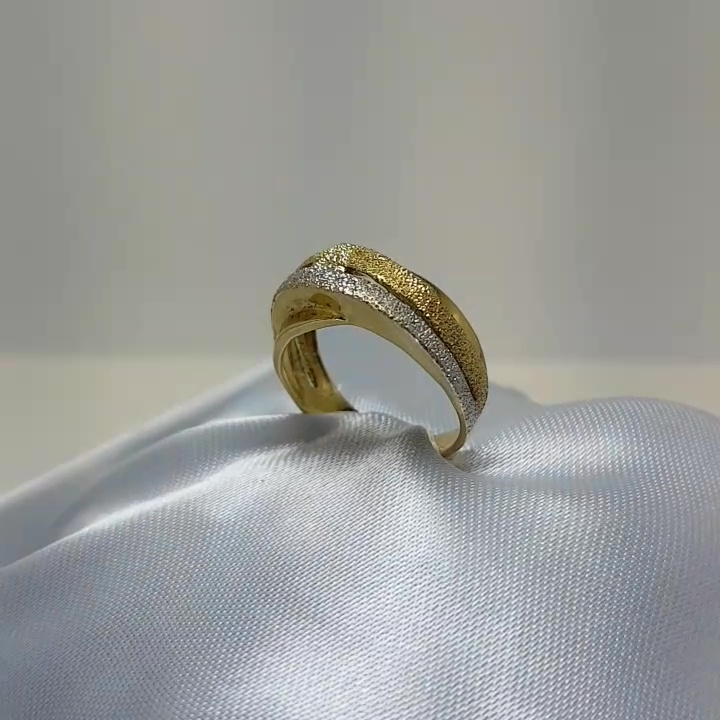Ring 5: (259, 210, 509, 490)
